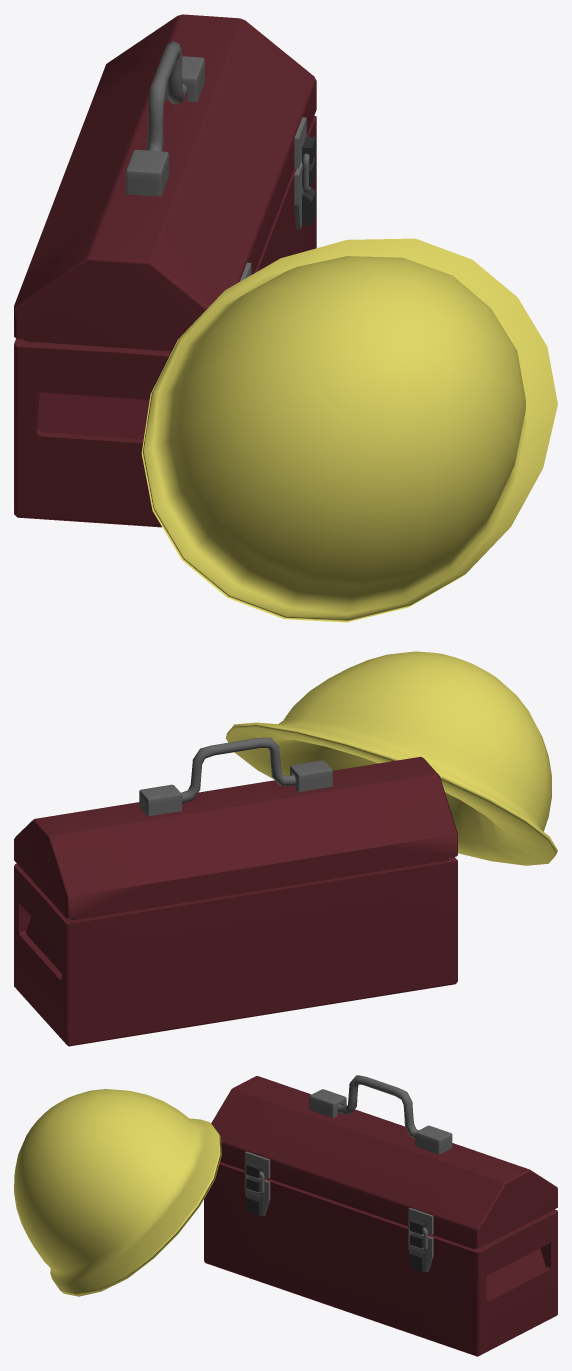
The model's file is a1_goal_object.fbx.
3 renders of one model, top to bottom at view 1: azimuth 30°, elevation 25°; view 2: azimuth 150°, elevation 25°; view 3: azimuth 270°, elevation 25°, orthographic. The views are drawn at different scales.
Parts seen in each view (by area): view 1: helmet, tool_box; view 2: tool_box, helmet; view 3: tool_box, helmet.
Boxes of the visible parts, x1,y1,x2,y2 form: helmet: (141, 238, 557, 622); tool_box: (14, 14, 316, 527); tool_box: (14, 737, 457, 1046); helmet: (226, 651, 557, 865); tool_box: (204, 1075, 557, 1356); helmet: (14, 1089, 221, 1296).
Size of the model in its own units: 1.71 by 1.22 by 2.89.
